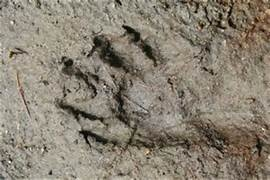fox: (110, 50, 210, 166)
